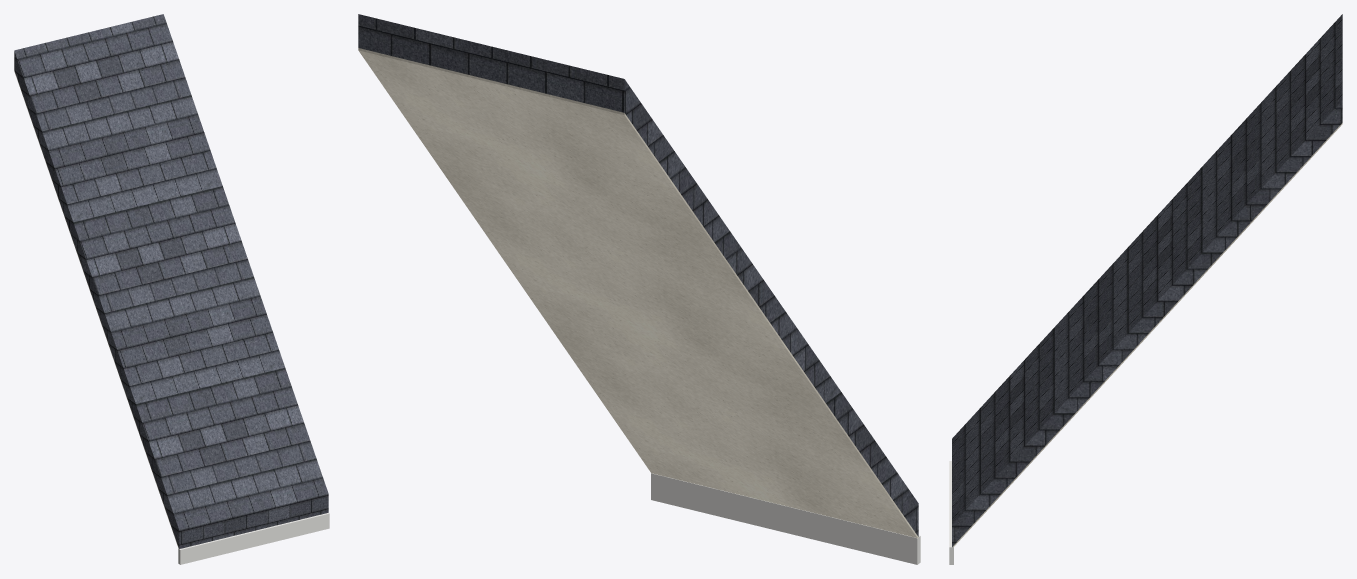
File: roof_slope_end.glb
The picture shows the model from 3 angles, left to right: view 1: azimuth 30°, elevation 25°; view 2: azimuth 150°, elevation 25°; view 3: azimuth 270°, elevation 25°; orthographic projection. The views are drawn at different scales.
Visible parts, largest first — view 1: roof_slope_end_shingles, roof_slope_end_trim, roof_slope_end_plaster; view 2: roof_slope_end_plaster, roof_slope_end_shingles, roof_slope_end_trim; view 3: roof_slope_end_shingles, roof_slope_end_plaster.
Part boxes in pixels (bbox=[...]): roof_slope_end_shingles: bbox=[14, 14, 328, 548]; roof_slope_end_trim: bbox=[178, 513, 329, 564]; roof_slope_end_plaster: bbox=[14, 70, 179, 549]; roof_slope_end_plaster: bbox=[358, 48, 918, 538]; roof_slope_end_shingles: bbox=[358, 14, 918, 536]; roof_slope_end_trim: bbox=[651, 473, 920, 564]; roof_slope_end_shingles: bbox=[952, 14, 1342, 546]; roof_slope_end_plaster: bbox=[952, 123, 1342, 547].
Bounding box in the file's own units: 2.3 × 5.78 × 4.43.
Materials: 3 (2 with a texture image).
